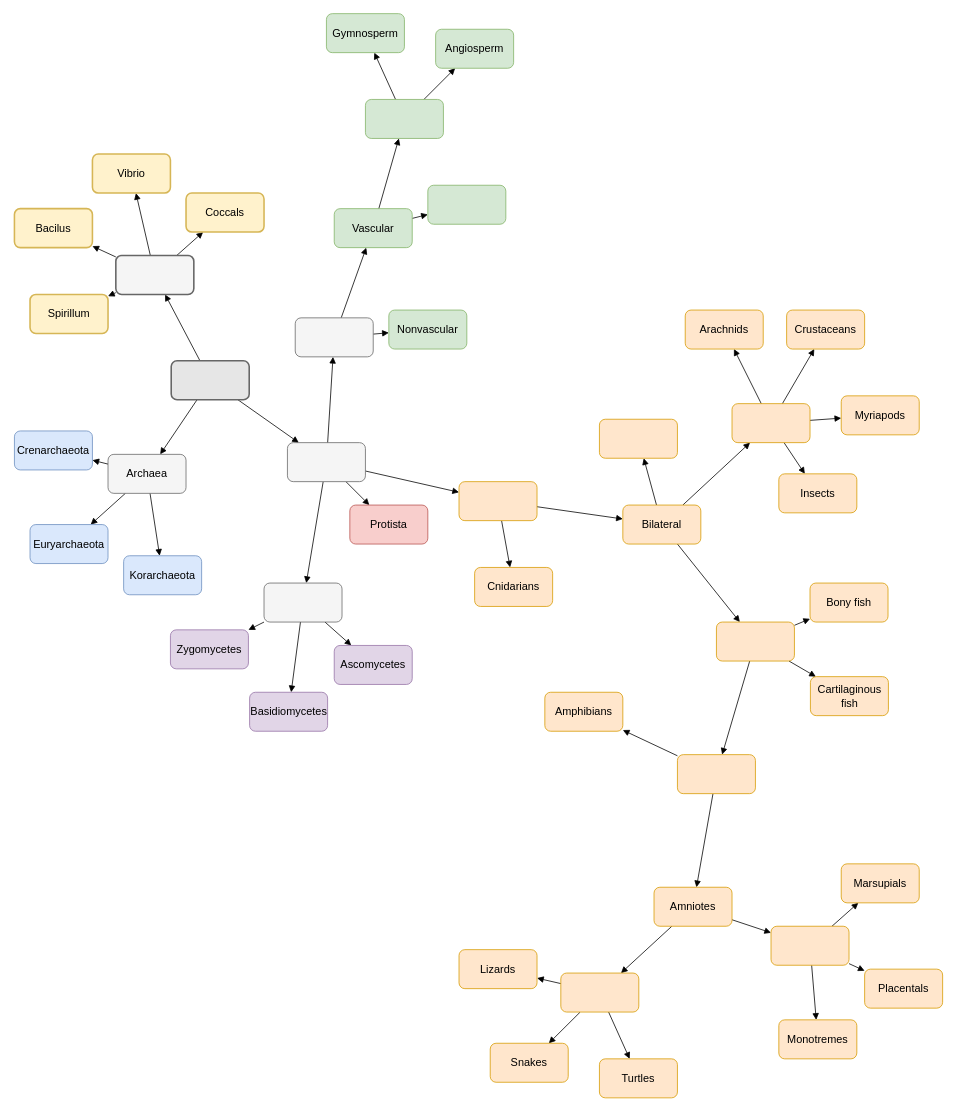
Image size: 956x1112. Some labels were removed from this diagram. The shapes that lost their labels are listed below. From the top down, each one's centre as x and y in pixels, then its label:
the point at 404,118: With seed
the point at 466,204: Seedless
the point at 154,274: Bacteria
the point at 333,337: Plants
the point at 210,380: Life form
the point at 638,438: Mollusks
the point at 770,423: Arthropods
the point at 326,462: Eukaryota
the point at 497,501: Animals
the point at 302,602: Fungi
the point at 755,641: Vertebrates
the point at 716,774: Tetrapods
the point at 809,945: Mammals
the point at 599,992: Birds and reptiles
